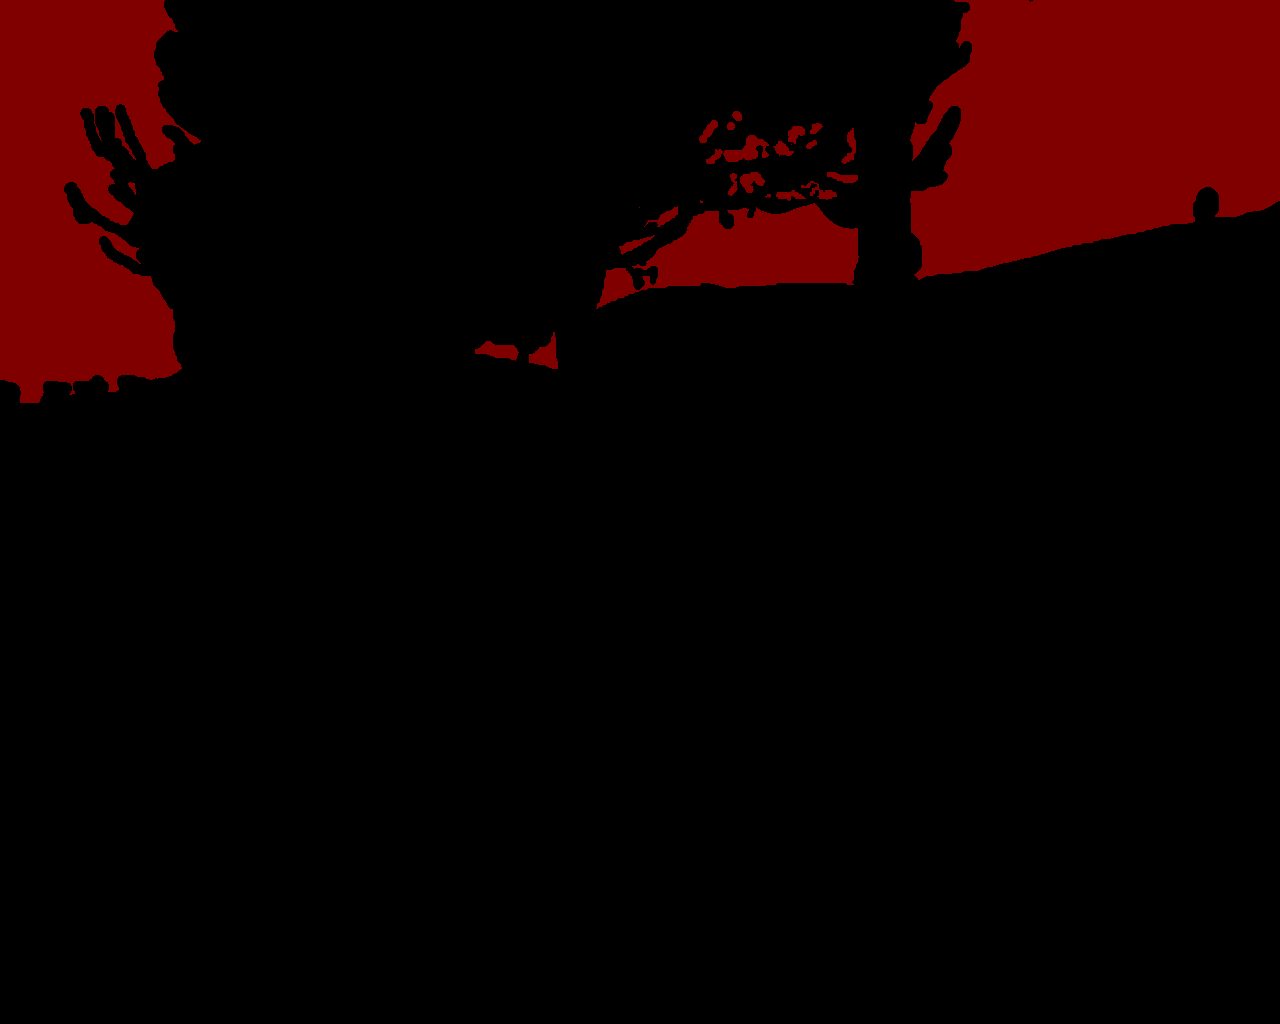Sky: (1, 1, 1279, 403)
